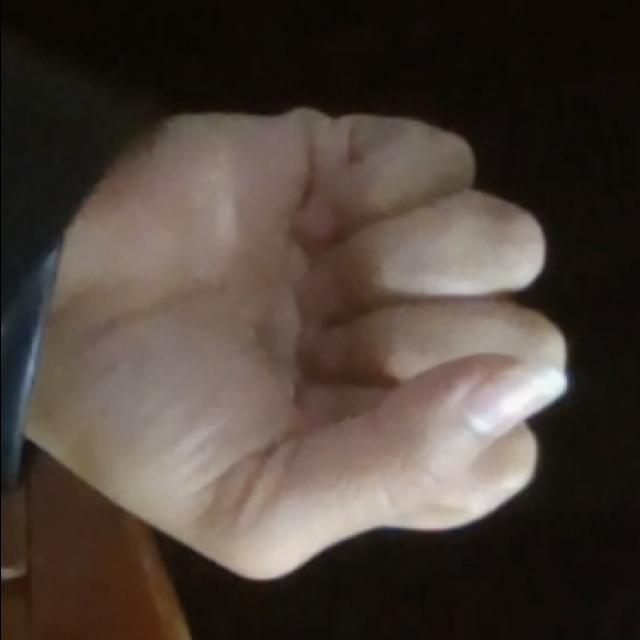S: (28, 96, 592, 590)
